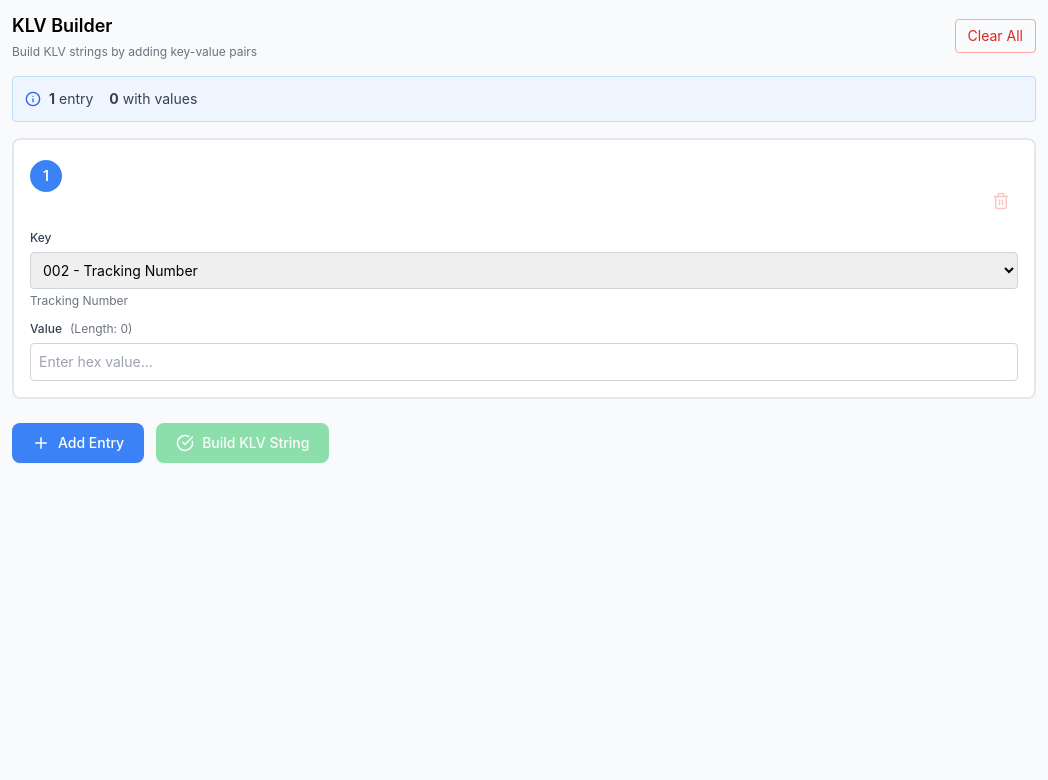
Test: KLVBuilder › Adding Entries › should add new entry when Add Entry button is clicked
Click the button "Add Entry". click: (78, 443)
box: [12, 423, 144, 463]
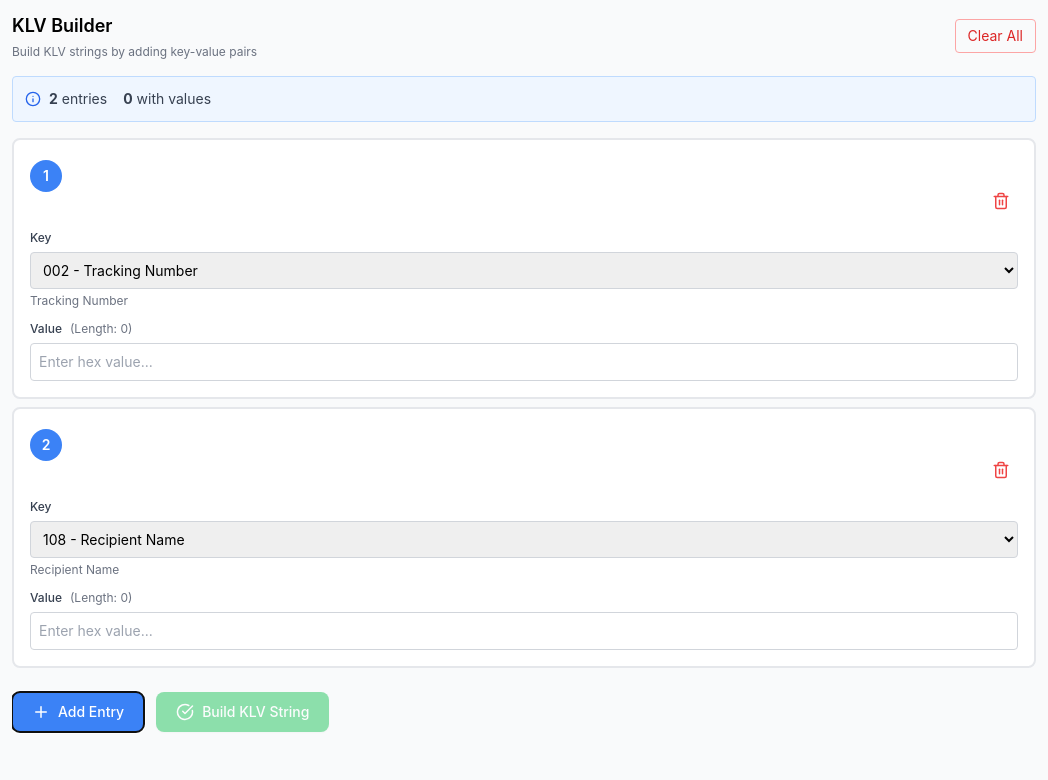
Expected: the text "Key" is shown 2 times, [30, 230, 52, 245]; [30, 499, 52, 514]
Expected: the number of fields with placeholder "Enter hex value..." is 2, [30, 343, 1018, 381]; [30, 612, 1018, 650]
